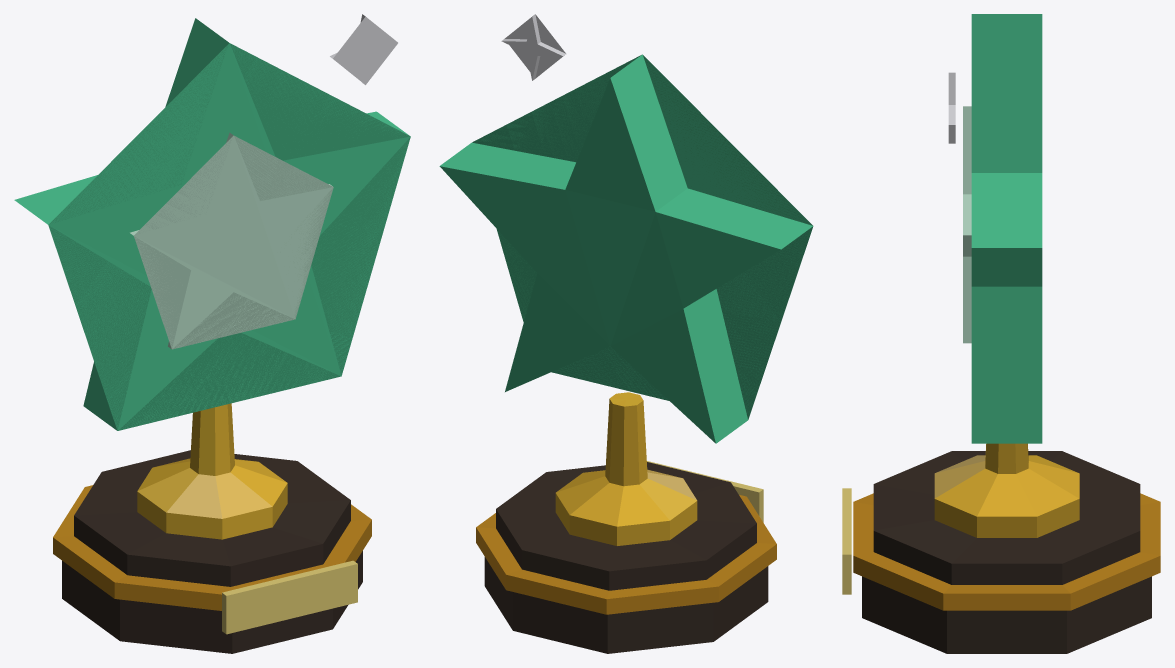
Rendered from Trophy_Starter.fbx.
The picture shows the model from 3 angles, left to right: view 1: azimuth 30°, elevation 25°; view 2: azimuth 150°, elevation 25°; view 3: azimuth 270°, elevation 25°; orthographic projection. The views are drawn at different scales.
Parts seen in each view (by area): view 1: Body; view 2: Body; view 3: Body.
Part boxes in pixels (x1=…): Body: x1=14, y1=14, x2=410, y2=653; Body: x1=439, y1=14, x2=813, y2=653; Body: x1=842, y1=14, x2=1160, y2=653.
Bounding box in the file's own units: 2.76 × 4.1 × 2.03.
